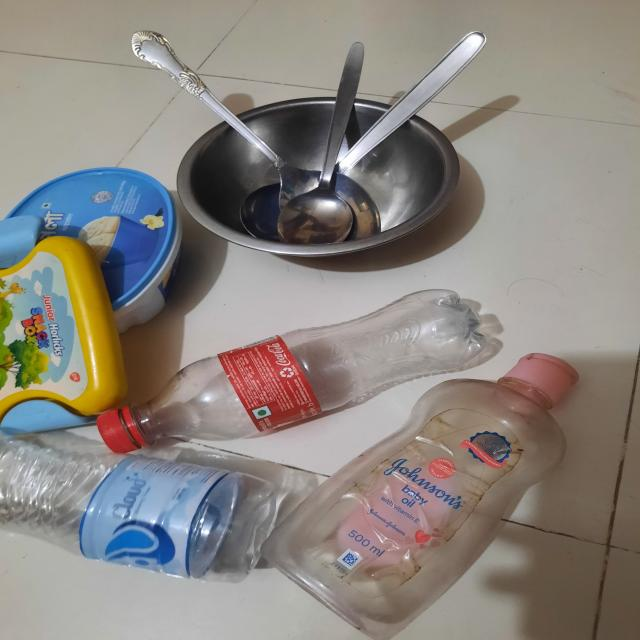Metal: (141, 16, 524, 272)
Plastics: (0, 250, 605, 640)
